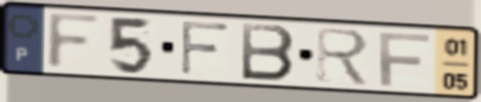5: (106, 15, 157, 76)
B: (239, 21, 298, 84)
F: (43, 11, 106, 73), (376, 30, 433, 88), (178, 18, 232, 78)
R: (314, 25, 373, 89)
